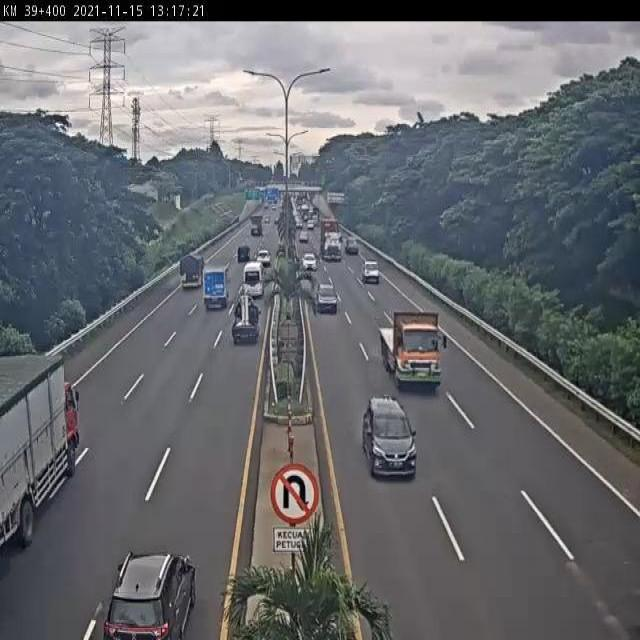big truck: (377, 305, 449, 388)
bus-s-: (242, 260, 265, 300)
car: (360, 396, 418, 480), (316, 281, 340, 316), (361, 260, 380, 283), (302, 252, 318, 272)
truck-m-: (0, 351, 88, 556)
truck-s-: (228, 298, 261, 346), (201, 267, 230, 313), (179, 252, 205, 291)
